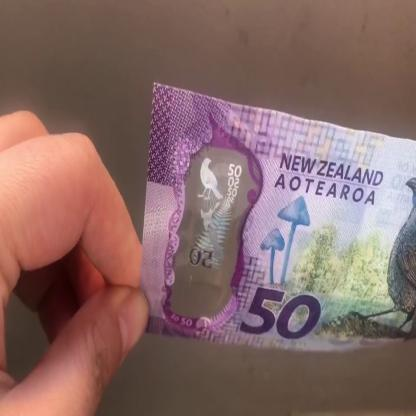50B: (174, 152, 241, 304)
